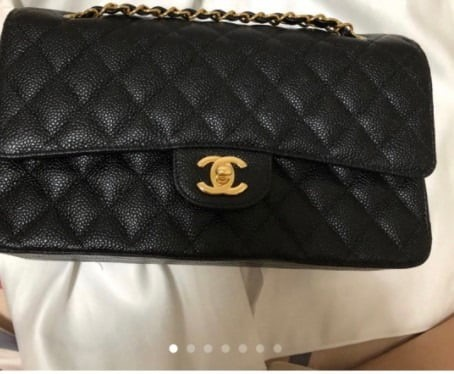channel: (1, 7, 432, 278), (84, 11, 342, 31), (188, 156, 259, 203)
